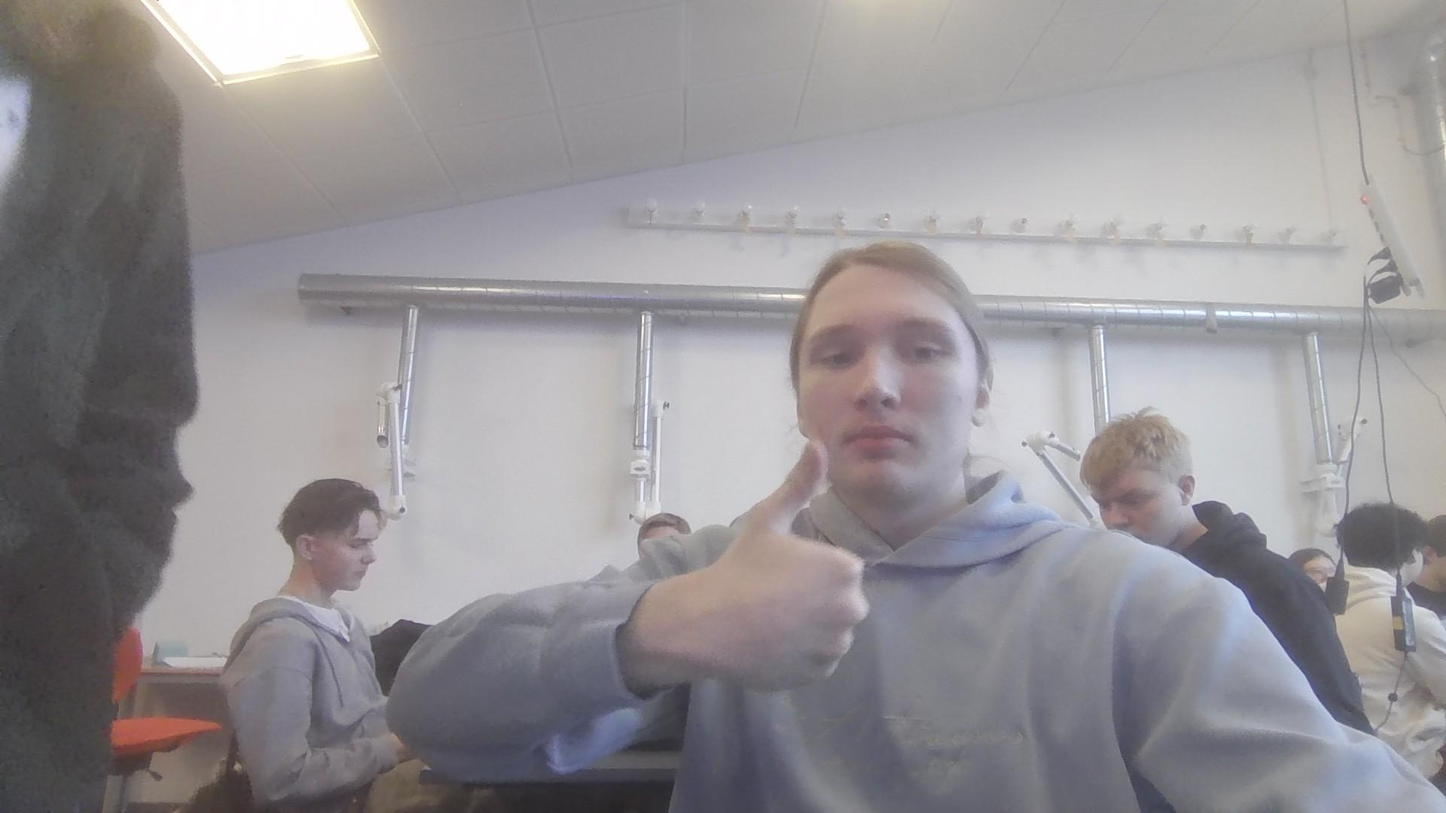thumbs up: (729, 435, 871, 699)
